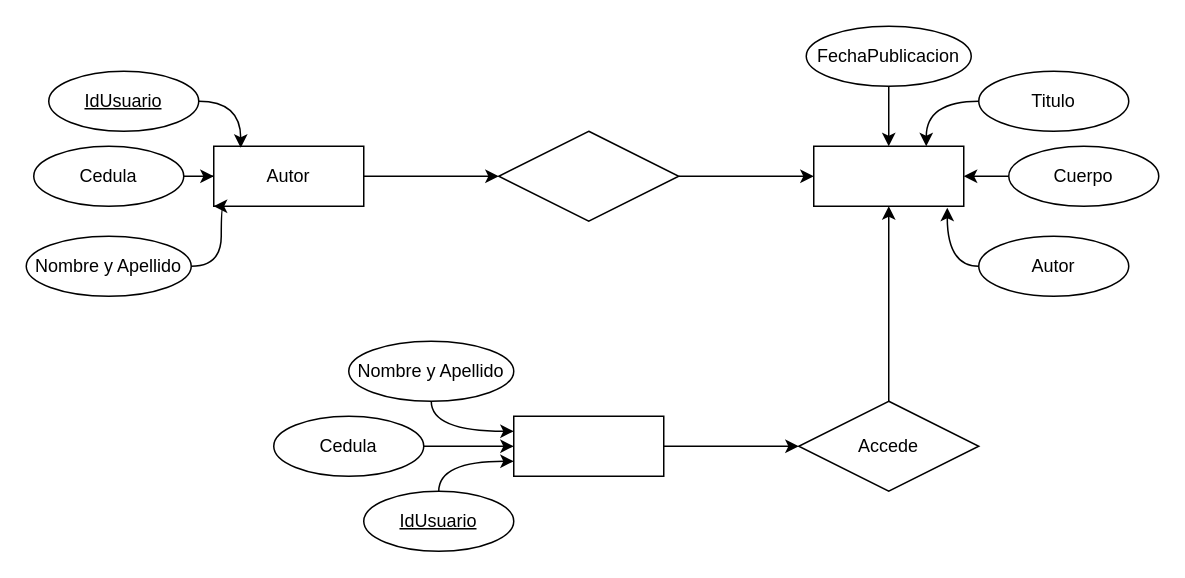
The diagram is 1185 pixels wide and 578 high, and some of its shapes have lost their labels. The box of each missing label's shape, as (x1, y1, x2, y2) in pixels:
Blog: (812, 145, 964, 206)
Publica: (497, 130, 679, 221)
Usuario: (512, 415, 664, 476)
